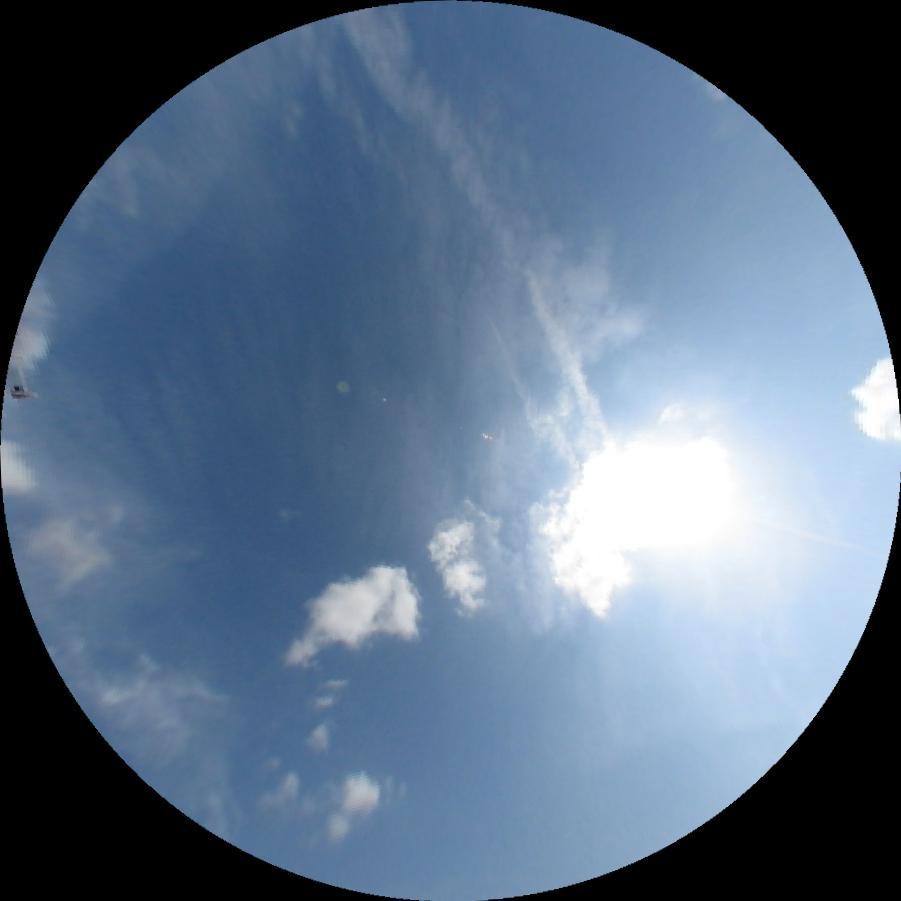contrail veryold: (467, 318, 584, 477)
parasite: (745, 511, 888, 557)
sun: (597, 415, 762, 576)
